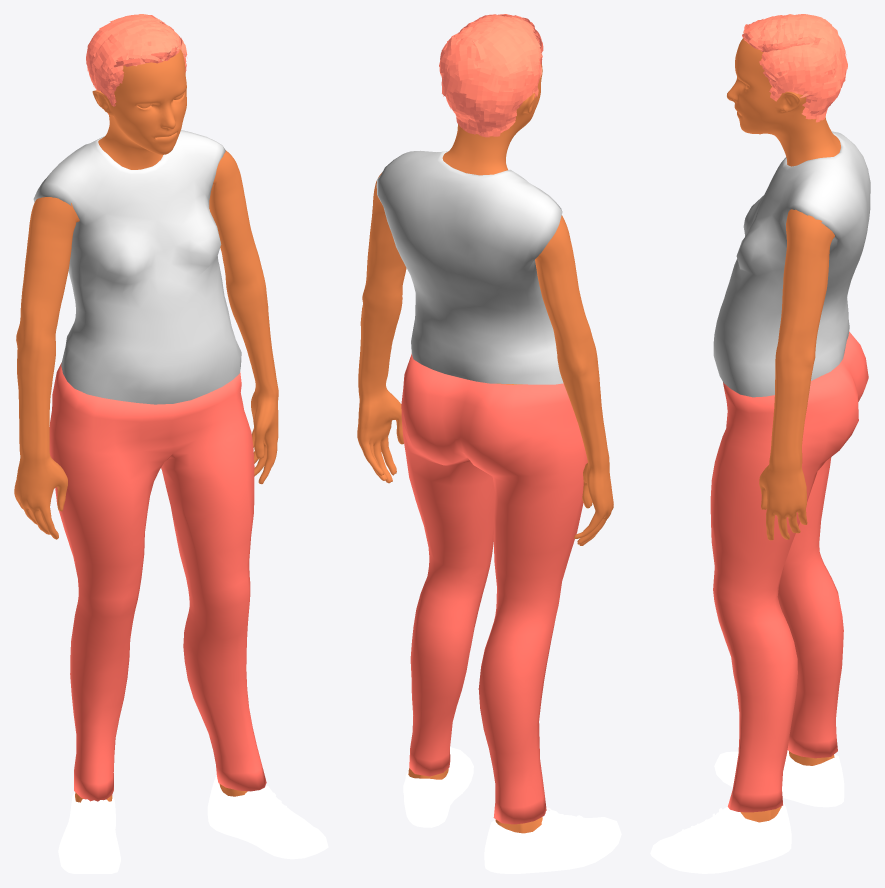
File: Woman_02_Standing-transformed.glb
3 views of the same model, side by side, from view 1: azimuth 30°, elevation 25°; view 2: azimuth 150°, elevation 25°; view 3: azimuth 270°, elevation 25° (orthographic). The views are drawn at different scales.
Visible parts, largest first — view 1: Bottoms.001, Top.001, Body.001, Shoes.001, Hair.001; view 2: Bottoms.001, Top.001, Body.001, Hair.001, Shoes.001; view 3: Bottoms.001, Top.001, Body.001, Shoes.001, Hair.001.
Boxes of the visible parts, x1,y1,x2,y2 form: Bottoms.001: [49, 363, 266, 801]; Top.001: [33, 130, 241, 404]; Body.001: [14, 49, 278, 802]; Shoes.001: [58, 776, 328, 873]; Hair.001: [86, 14, 187, 114]; Bottoms.001: [401, 353, 587, 824]; Top.001: [376, 150, 563, 384]; Body.001: [357, 64, 613, 833]; Hair.001: [439, 14, 543, 137]; Shoes.001: [403, 747, 621, 873]; Bottoms.001: [710, 331, 868, 812]; Top.001: [713, 131, 870, 397]; Body.001: [727, 38, 840, 822]; Shoes.001: [650, 750, 844, 873]; Hair.001: [742, 14, 847, 122].
Bounding box in the file's own units: 0.5458 × 1.69 × 0.425.
